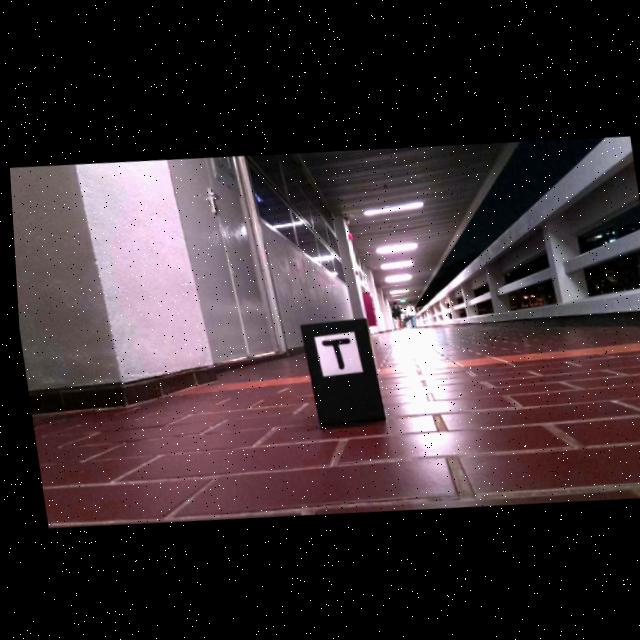T: (318, 336, 346, 367)
